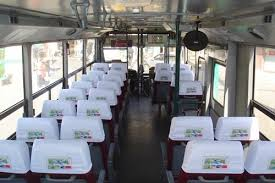seat: (39, 124, 108, 179)
